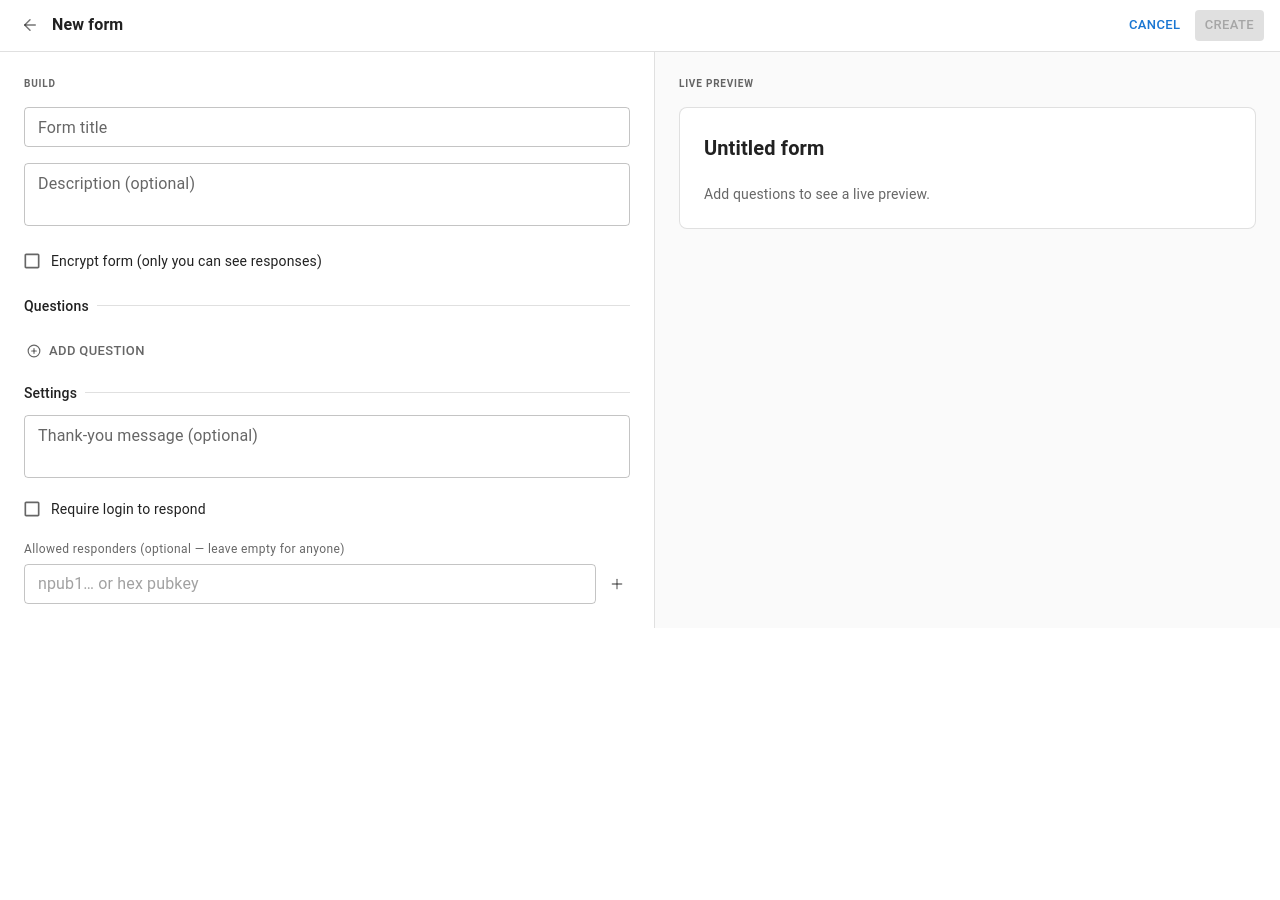
Test: FormBuilderSurface › can type a form name and add a field
Type "My Survey" into the field labelled "Form title" at (327, 127), box left=24, top=107, right=630, bottom=147
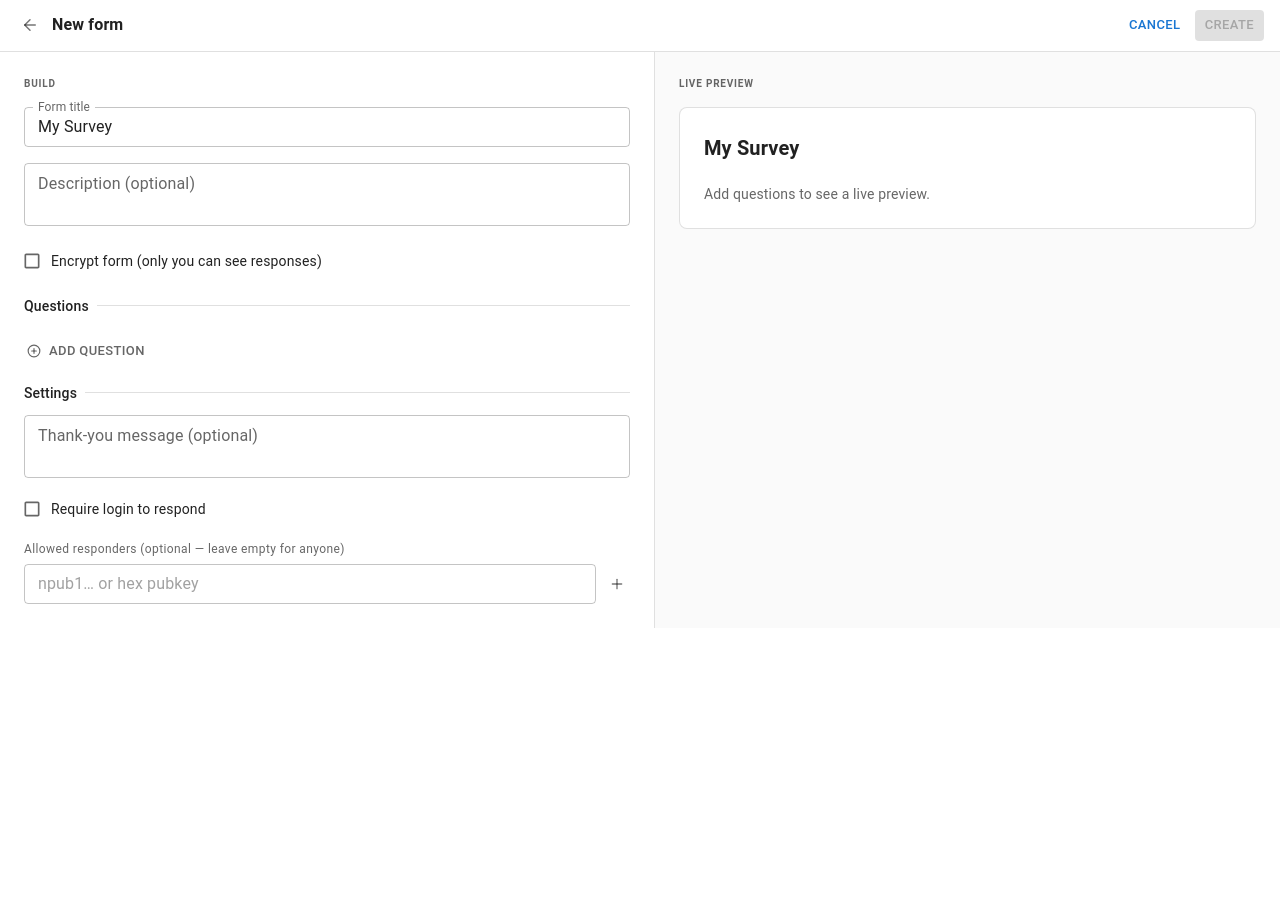
Click the button "Add question" at (87, 351), box left=24, top=336, right=150, bottom=367
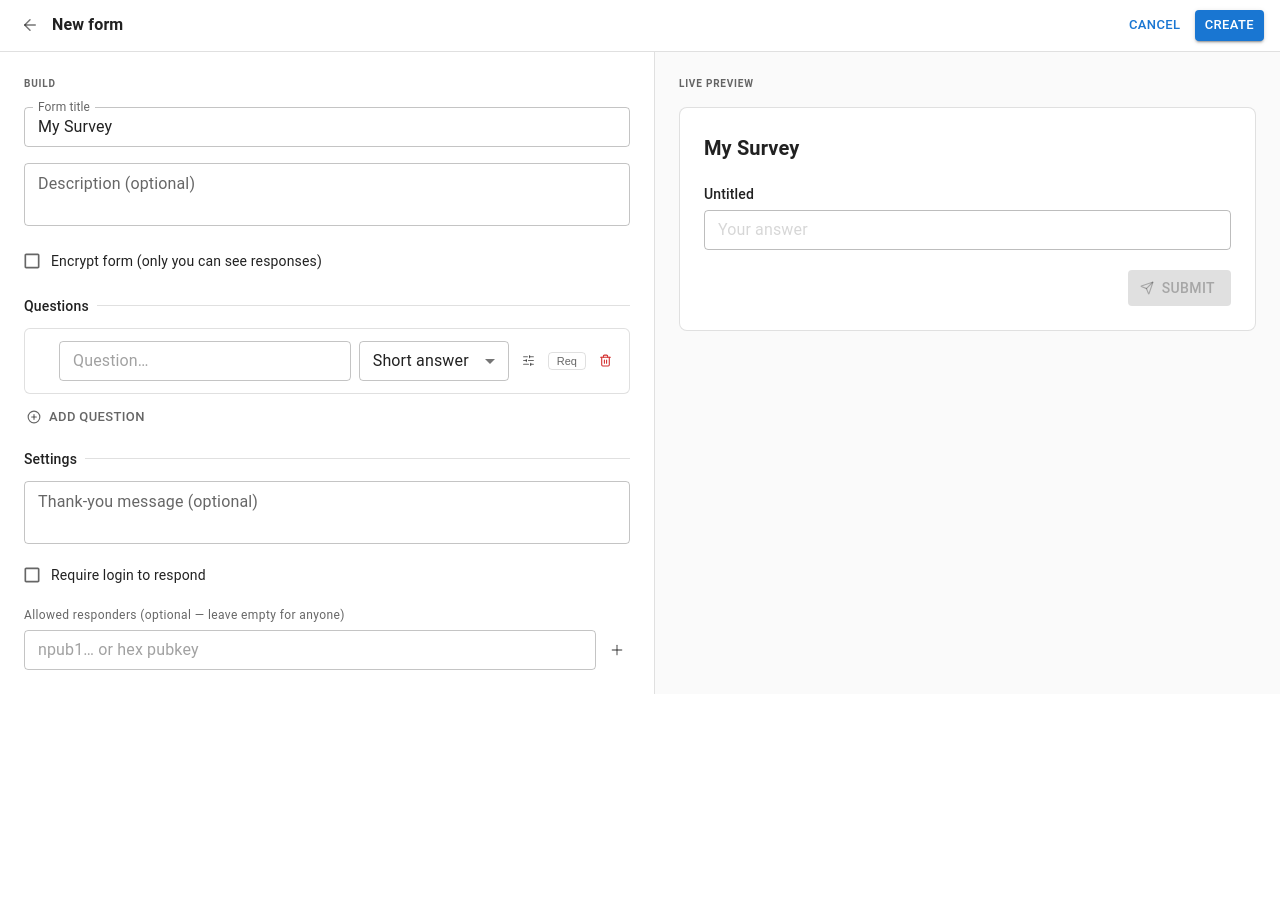
Result: the field with placeholder "Question…" is shown at left=59, top=341, right=351, bottom=381
